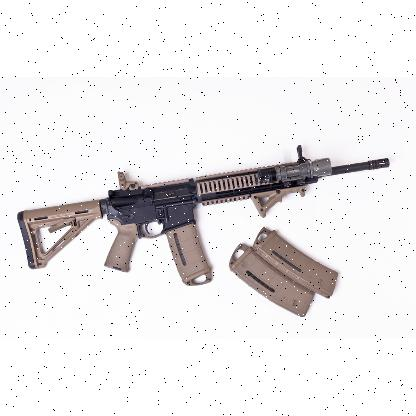gun: (18, 143, 388, 285)
